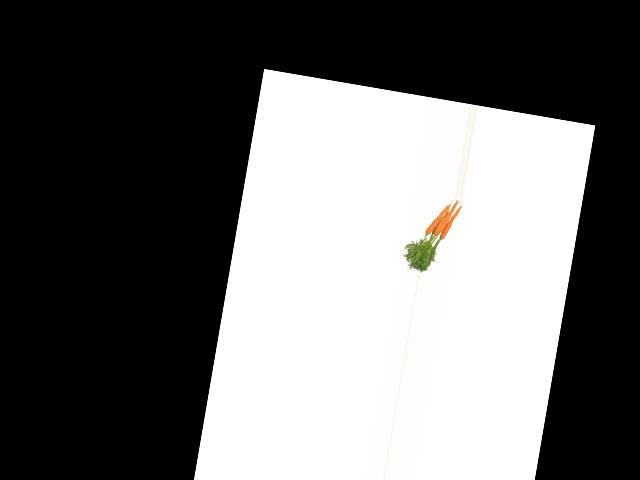carrot: (437, 201, 466, 244)
